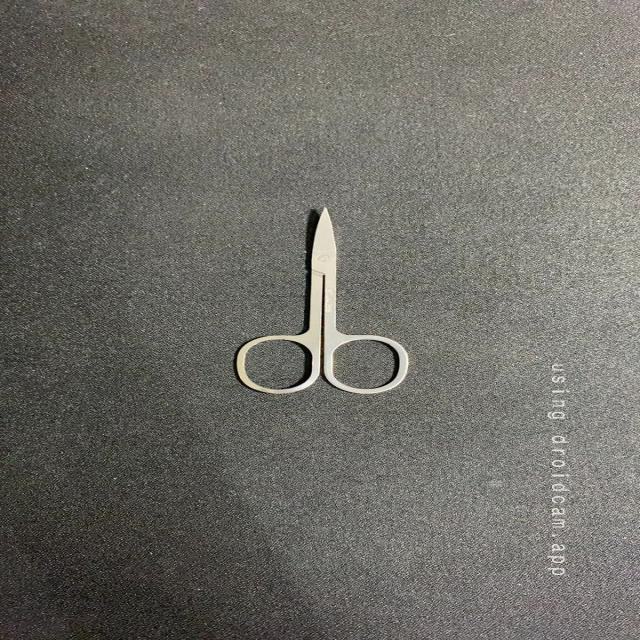scissor: (225, 196, 421, 402)
